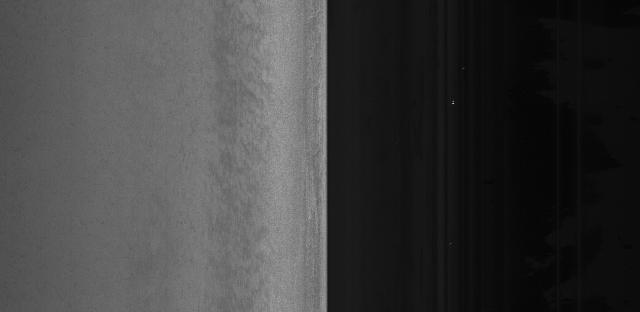silk_spot: (210, 107, 285, 223)
